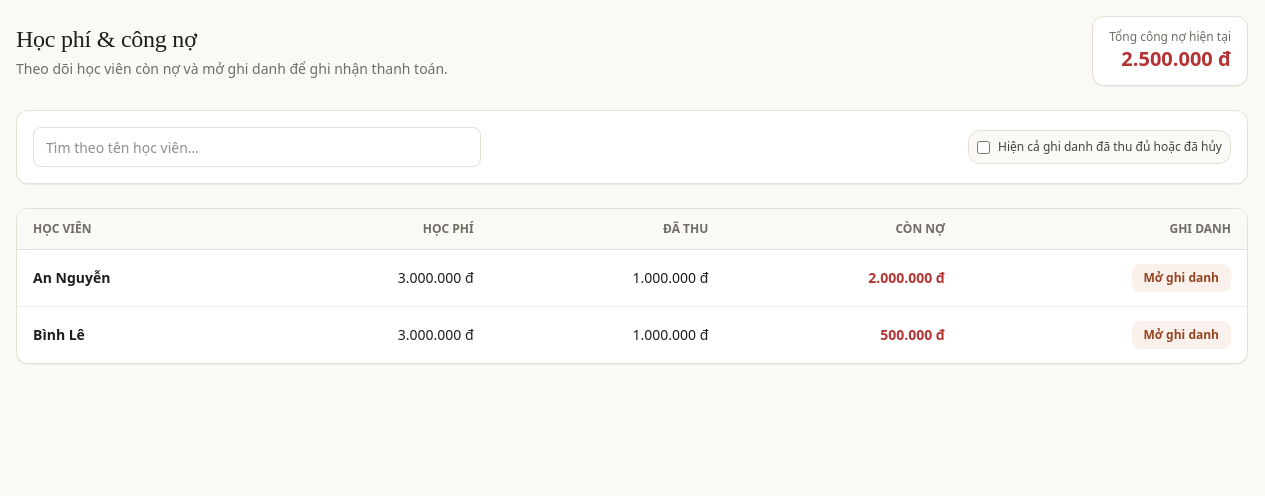
Test: ReceivablesPage › tổng công nợ không đổi khi hiện cả ghi danh đã hủy và thu vượt
Expected: the link "An Nguyễn" is shown, x1=33 y1=268 x2=110 y2=287
Click the checkbox at (984, 147), box x1=977 y1=140 x2=990 y2=154
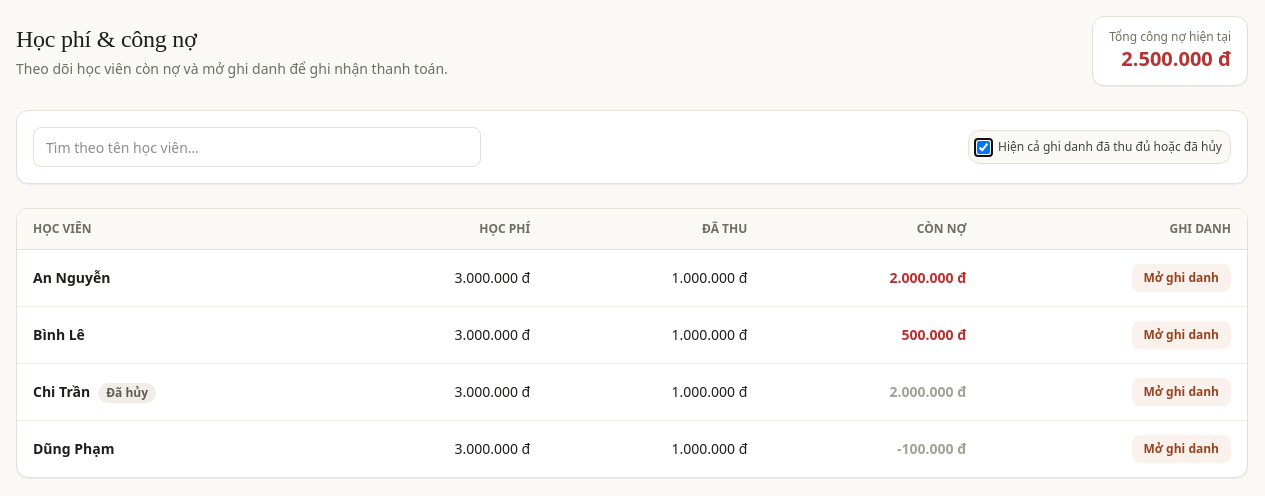
Expected: the link "Chi Trần" is shown, x1=33 y1=382 x2=90 y2=400
Expected: the text "Đã hủy" is shown, x1=98 y1=382 x2=156 y2=402
